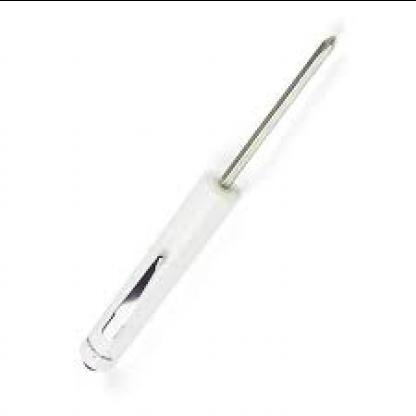Screw Driver: (79, 34, 338, 372)
